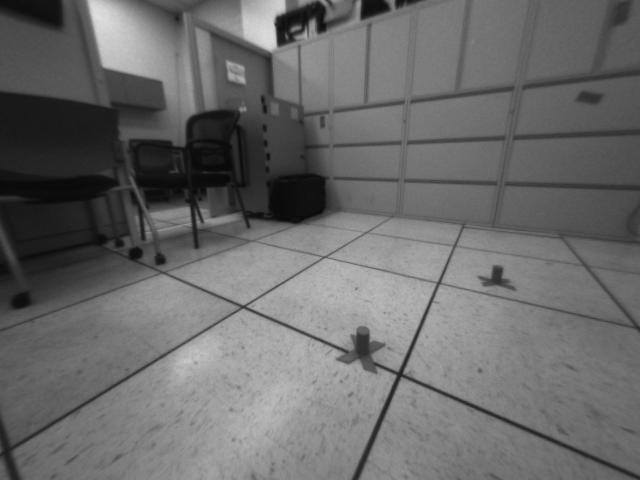X: (336, 325, 386, 375), (476, 264, 521, 293)
